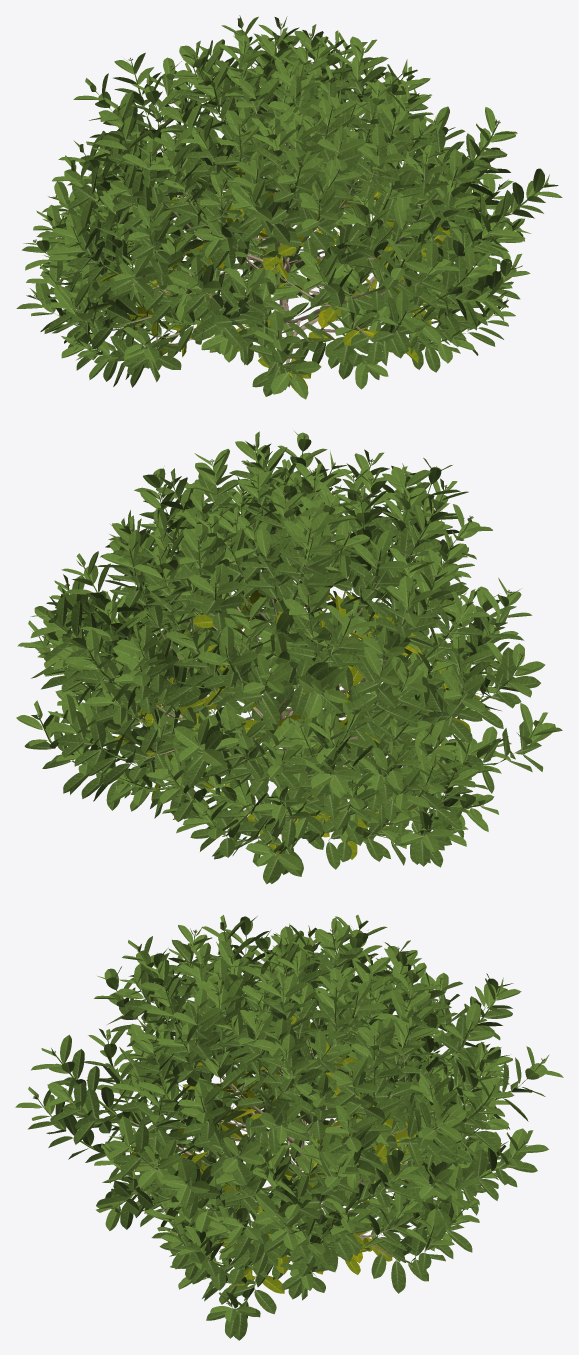
The model's file is ixora.glb.
3 views of the same model, one above another, from view 1: azimuth 30°, elevation 25°; view 2: azimuth 150°, elevation 25°; view 3: azimuth 270°, elevation 25° (orthographic). The views are drawn at different scales.
Bounding box in the file's own units: 2 × 1.35 × 2.04.
Materials: 8 (8 with a texture image).
